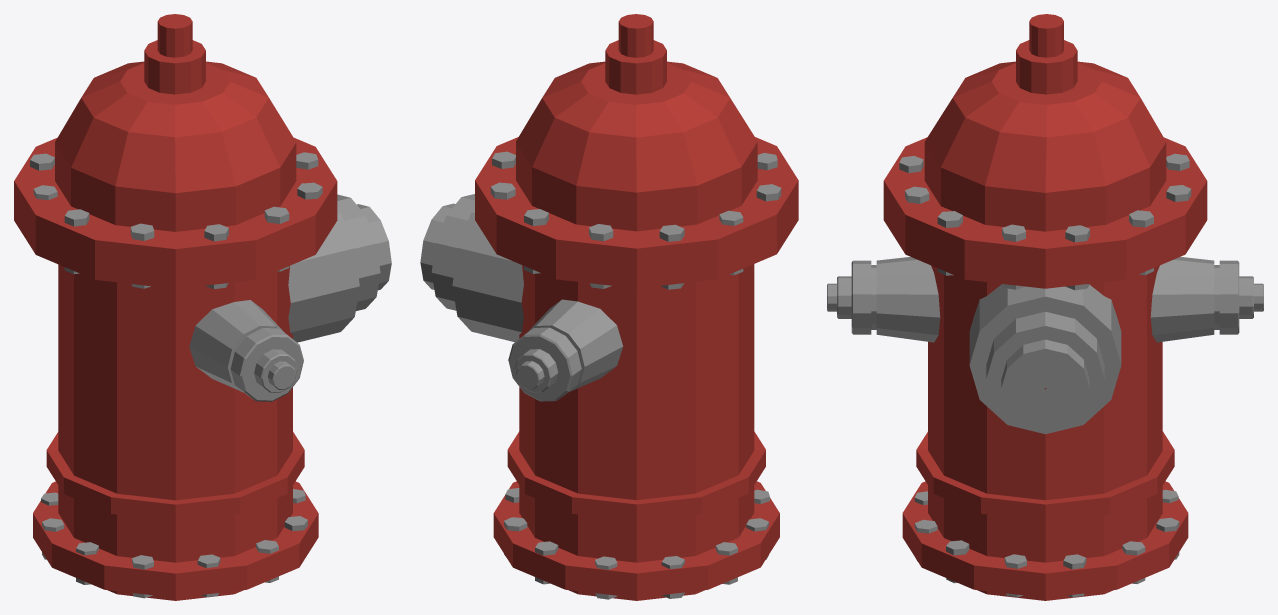
The model's file is hydrant.glb.
3 renders of one model, left to right at view 1: azimuth 30°, elevation 25°; view 2: azimuth 150°, elevation 25°; view 3: azimuth 270°, elevation 25°, orthographic.
Parts seen in each view (by area): view 1: Circle, Circle.002, Circle.001, Cylinder.002, Cylinder.001; view 2: Circle, Circle.002, Circle.001, Cylinder.002, Cylinder.001; view 3: Circle, Circle.002, Circle.001, Cylinder.002, Cylinder.001.
Boxes of the visible parts, box(x1,y1,x2,y2) form: Circle: box(14, 14, 337, 600); Circle.002: box(288, 194, 391, 342); Circle.001: box(189, 300, 303, 401); Cylinder.002: box(30, 152, 322, 289); Cylinder.001: box(41, 489, 307, 598); Circle: box(475, 14, 798, 600); Circle.002: box(420, 194, 523, 342); Circle.001: box(508, 299, 623, 401); Cylinder.002: box(490, 151, 781, 289); Cylinder.001: box(504, 488, 769, 599); Circle: box(883, 14, 1207, 600); Circle.002: box(969, 284, 1121, 434); Circle.001: box(827, 257, 1263, 342); Cylinder.002: box(899, 153, 1191, 290); Cylinder.001: box(914, 489, 1179, 597).
Size of the model in its own units: 3.29 by 4.99 by 3.73.
